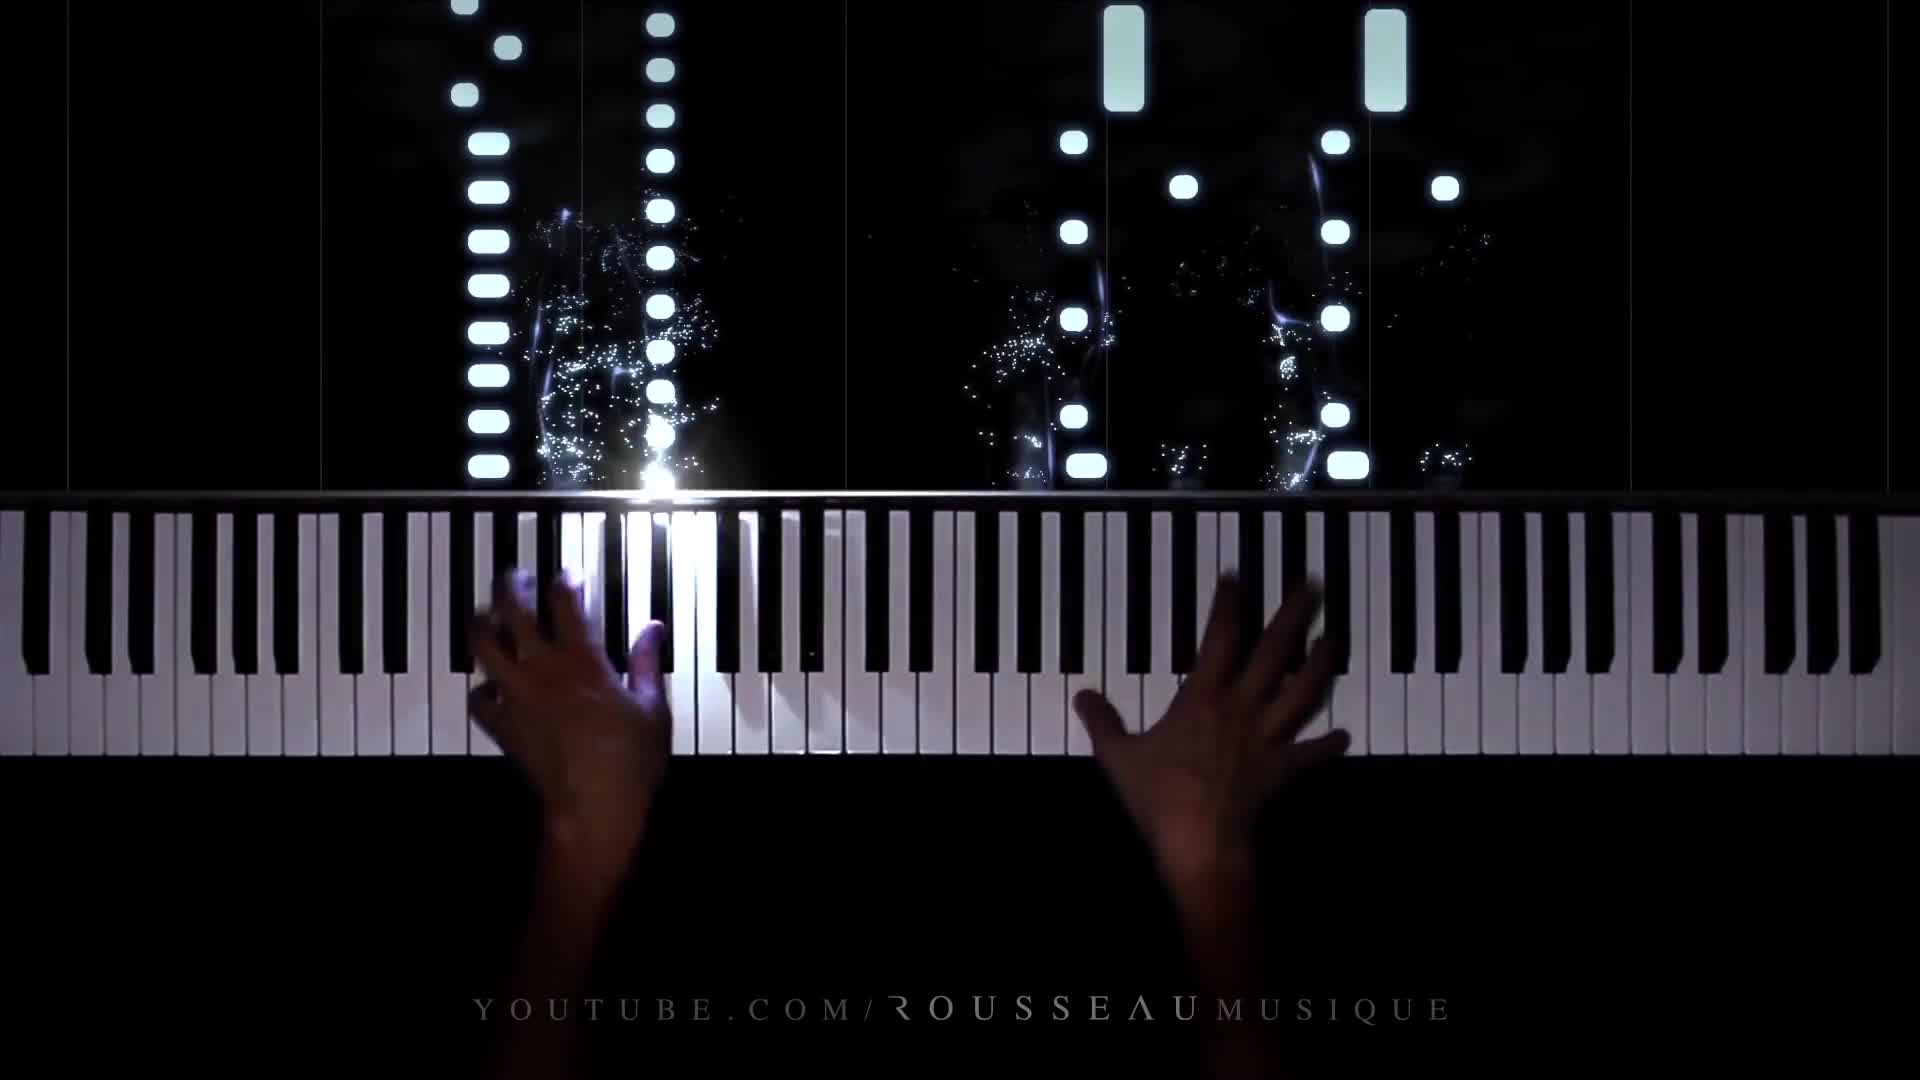left: (464, 556, 674, 820)
right: (1072, 570, 1353, 841)
